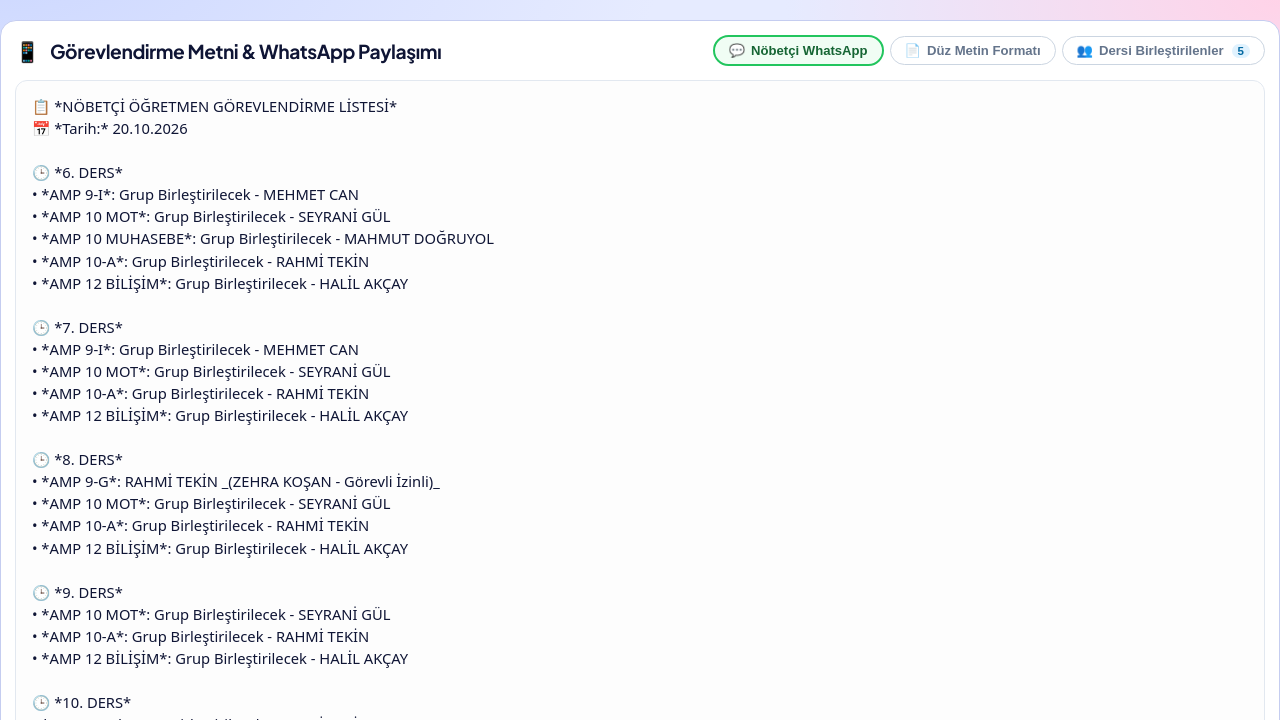
Test case: Merged Groups (Birleştirilen Gruplar) Outputs Visibility › lists merged teachers in the "Dersi Birleştirilenler" WhatsApp tab even without an owner absence record
The image size is (1280, 720).
Click the text "Dersi Birleştirilenler".
click(1161, 50)  # box [1099,43,1224,58]
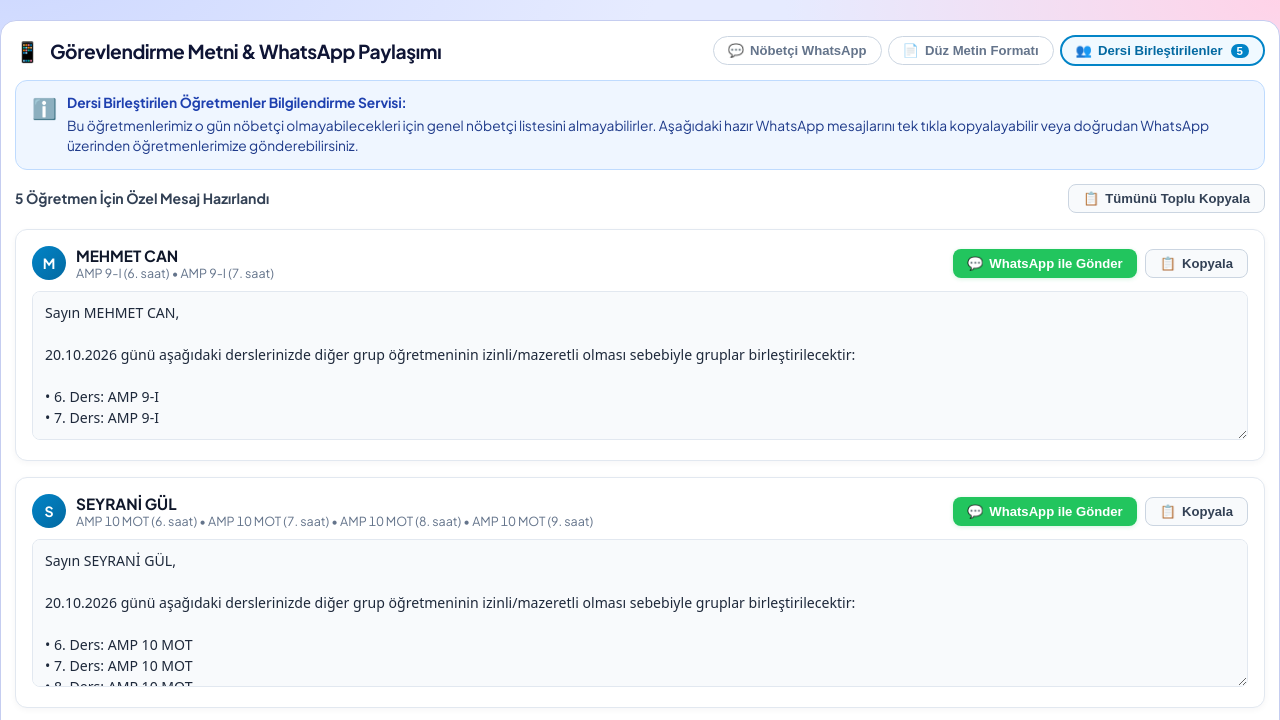
Check: the text "5 Öğretmen İçin Özel Mesaj Hazırlandı" is shown, box [15,189,269,207]
